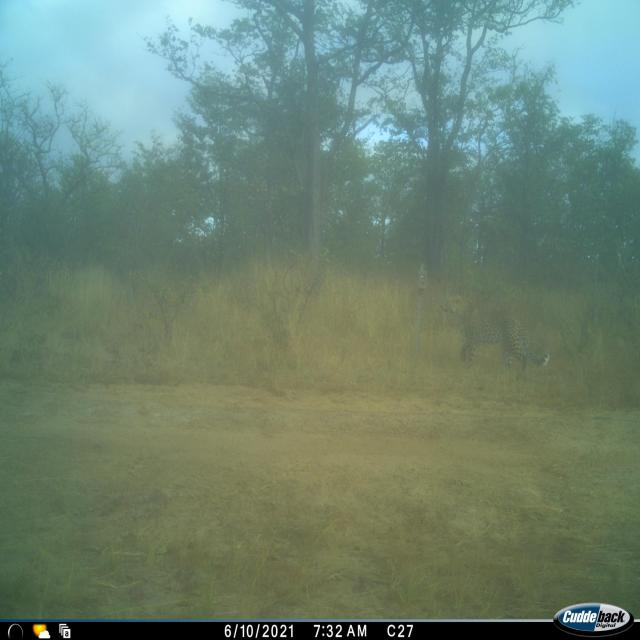Leopard: (437, 289, 548, 376)
